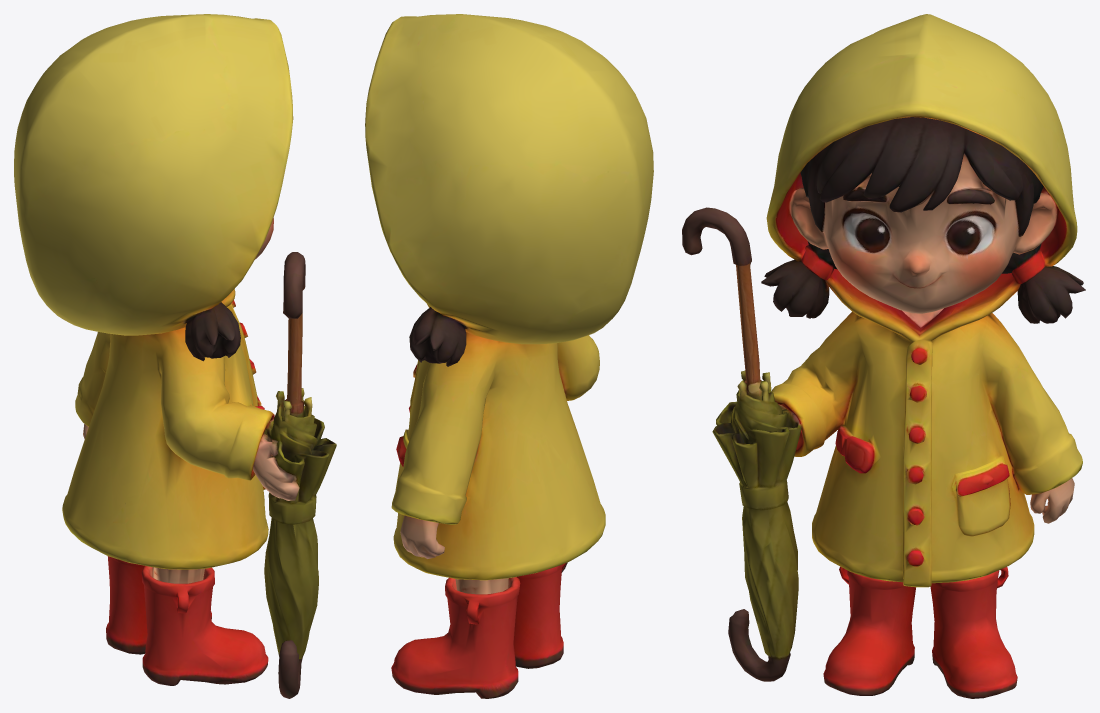
Rendered from girl_raincoat.glb.
The picture shows the model from 3 angles, left to right: view 1: azimuth 30°, elevation 25°; view 2: azimuth 150°, elevation 25°; view 3: azimuth 270°, elevation 25°; orthographic projection.
Visible parts, largest first — view 1: tripo_node_4b1cbc35-db29-4912-9bbc-99573d14c248; view 2: tripo_node_4b1cbc35-db29-4912-9bbc-99573d14c248; view 3: tripo_node_4b1cbc35-db29-4912-9bbc-99573d14c248.
Part boxes in pixels (<box>): tripo_node_4b1cbc35-db29-4912-9bbc-99573d14c248: <box>14,14,336,698</box>; tripo_node_4b1cbc35-db29-4912-9bbc-99573d14c248: <box>365,14,653,698</box>; tripo_node_4b1cbc35-db29-4912-9bbc-99573d14c248: <box>682,14,1085,698</box>.
Size of the model in its own units: 0.1033 by 0.25 by 0.1437.
1 material, 1 textured.
